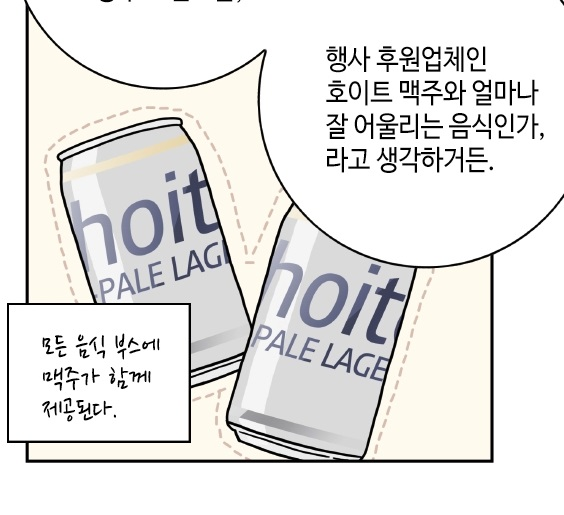beer: (54, 114, 263, 404)
cup: (41, 107, 254, 387)
